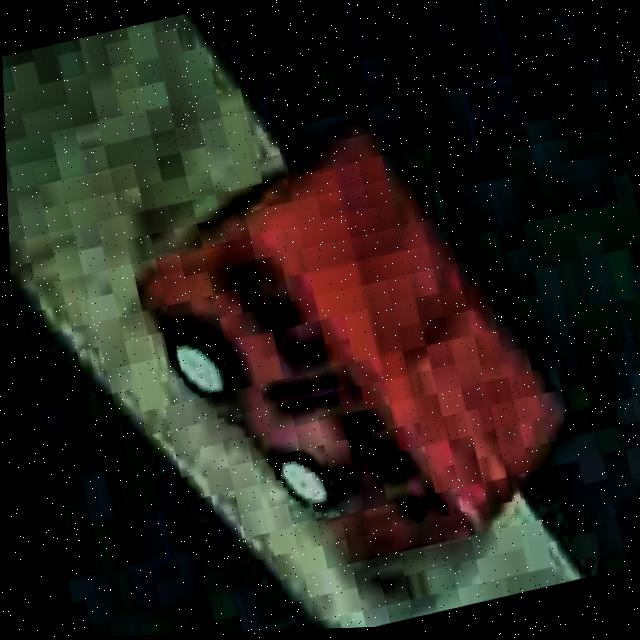bus: (104, 96, 594, 608)
